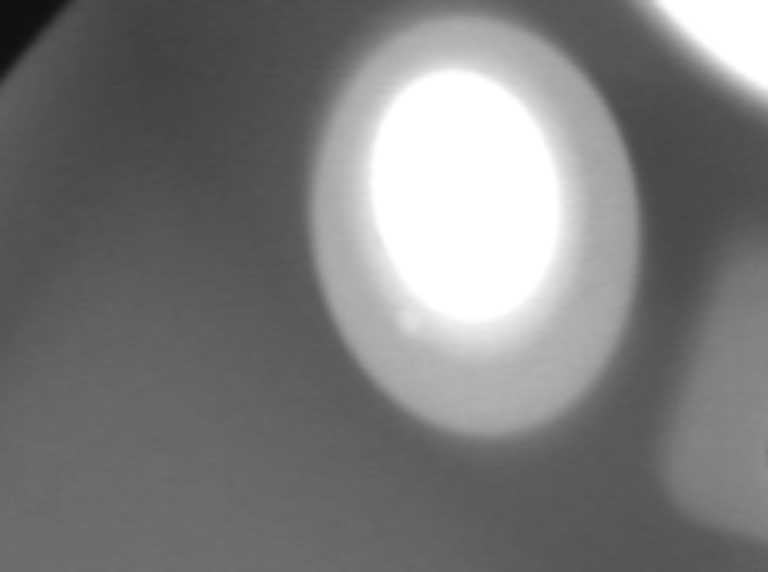defect: (401, 302, 437, 355)
